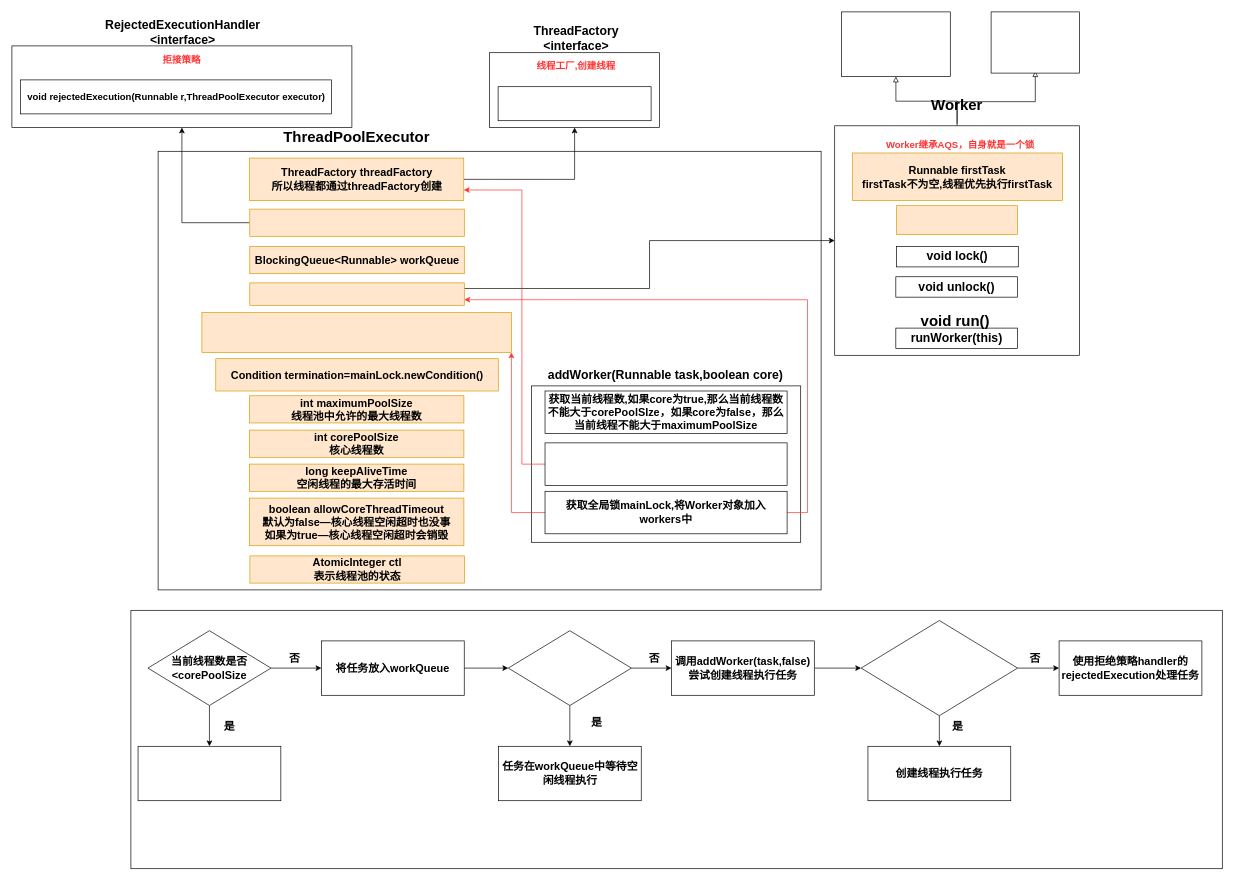
The diagram is 1234 pixels wide and 881 high, and some of its shapes have lost their labels. Here are the shapes that lost their labels. From the top down, the box of each, then its label:
(841, 11, 950, 76): Runnable
(990, 11, 1080, 73): AQS
(497, 86, 651, 121): Thread newThread(Runnable r)
(249, 208, 464, 236): RejectedExecutionHandler handler 拒绝策略
(896, 205, 1018, 235): Thread thread
(249, 282, 464, 305): HashSet<Worker> workers
(201, 312, 511, 352): ReentrantLock mainLock 全局锁，对workers的写操作都必须加锁
(544, 442, 787, 485): 通过threadFactory创建线程，将线程与task封装为Worker对象
(508, 630, 631, 706): 是否成功放入workQueue
(860, 620, 1018, 716): addWorker()中检查当前线程数是否大于maximumPoolSize
(137, 746, 281, 801): 调用addWorker(task,true)创建核心线程执行任务
